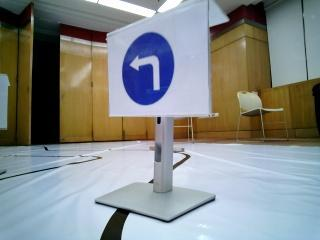left: (112, 28, 204, 108)
